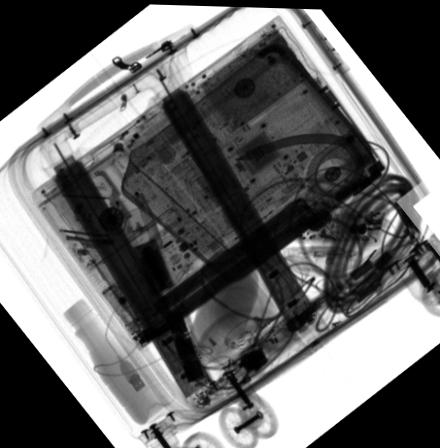Baton: (109, 188, 214, 388)
